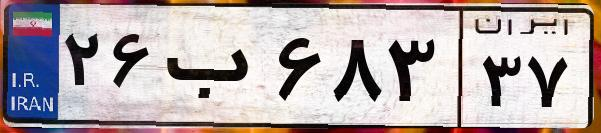2: (57, 26, 110, 100)
3: (385, 28, 445, 110), (475, 38, 525, 113)
6: (270, 28, 330, 110), (110, 28, 158, 98)
7: (525, 38, 570, 115)
8: (330, 28, 385, 110)
ب: (158, 20, 270, 120)
